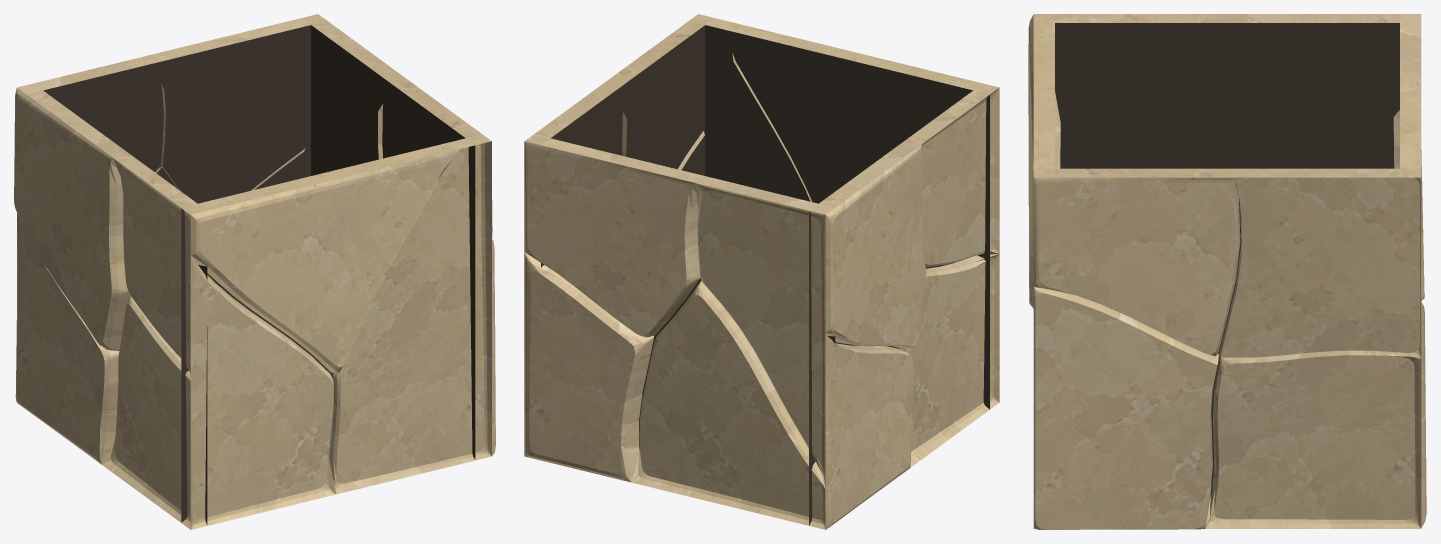
Rendered from ground_square_island_01.glb.
The picture shows the model from 3 angles, left to right: view 1: azimuth 30°, elevation 25°; view 2: azimuth 150°, elevation 25°; view 3: azimuth 270°, elevation 25°; orthographic projection. The views are drawn at different scales.
Parts seen in each view (by area): view 1: GroundSquareIsland01_Body; view 2: GroundSquareIsland01_Body; view 3: GroundSquareIsland01_Body.
Boxes of the visible parts, <box> form: GroundSquareIsland01_Body: <box>14,14,495,529</box>; GroundSquareIsland01_Body: <box>524,14,999,529</box>; GroundSquareIsland01_Body: <box>1028,14,1426,529</box>.
Bounding box in the file's own units: 1.03 × 1 × 1.03.
17 materials, 16 textured.
